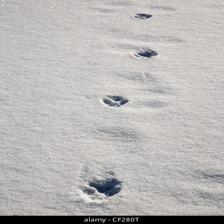fox: (99, 93, 132, 110)
